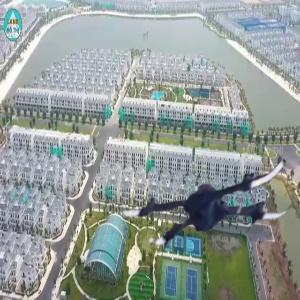drone: (124, 107, 293, 276)
